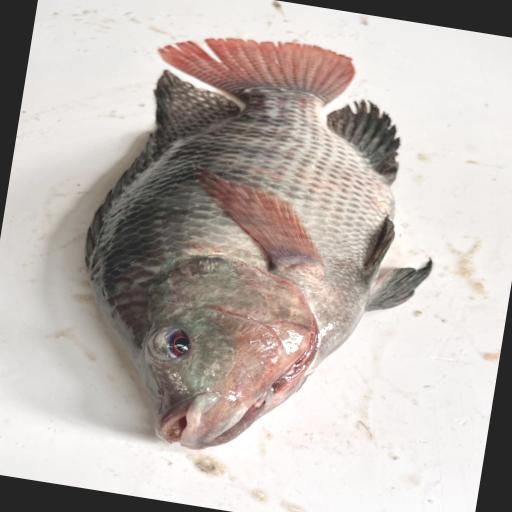Tilapia: (55, 14, 465, 483)
